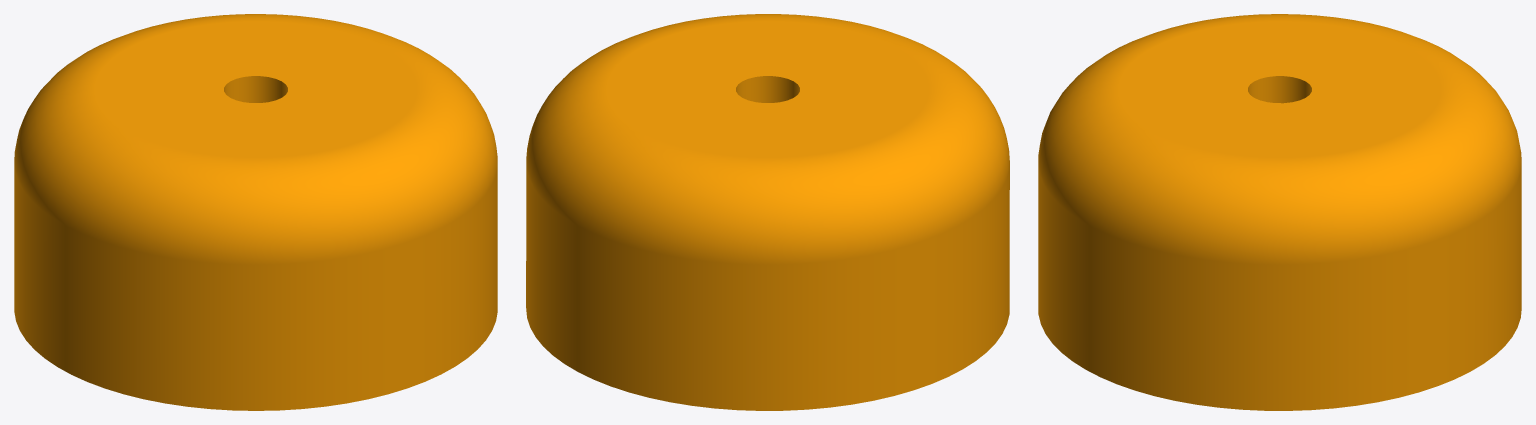
3 views of the same model, side by side, from view 1: azimuth 30°, elevation 25°; view 2: azimuth 150°, elevation 25°; view 3: azimuth 270°, elevation 25° (orthographic).
Parts seen in each view (by area): view 1: peca; view 2: peca; view 3: peca.
Boxes of the visible parts, <box> form: peca: <box>14,14,497,410</box>; peca: <box>526,14,1009,410</box>; peca: <box>1038,14,1521,410</box>.
Size of the model in its own units: 4.54 by 2.27 by 4.54.
